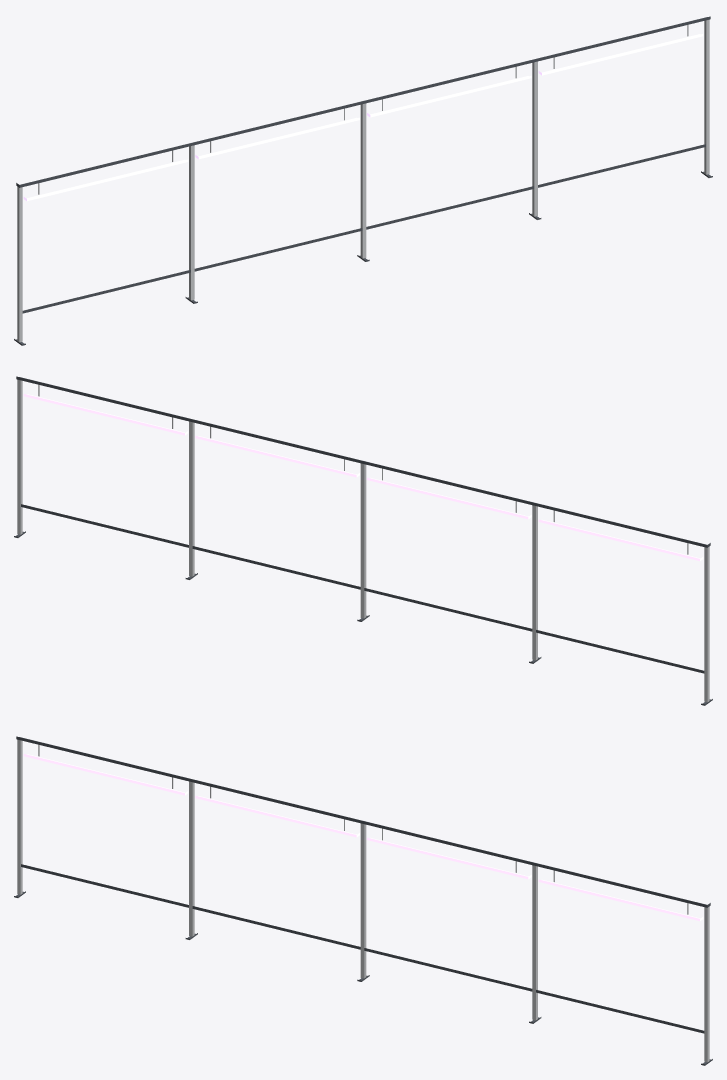
File: ext_grow_light_rack_03.glb
The picture shows the model from 3 angles, top to bottom: view 1: azimuth 30°, elevation 25°; view 2: azimuth 150°, elevation 25°; view 3: azimuth 330°, elevation 25°; orthographic projection.
Visible parts, largest first — view 1: Posts, Top_Beam, Light_Bars, Cross_Braces; view 2: Posts, Top_Beam, Light_Bars, Cross_Braces; view 3: Posts, Top_Beam, Light_Bars, Cross_Braces.
Boxes of the visible parts, x1,y1,x2,y2 form: Posts: [17, 19, 709, 342]; Top_Beam: [16, 16, 710, 187]; Light_Bars: [23, 34, 703, 201]; Cross_Braces: [22, 144, 705, 313]; Posts: [17, 379, 709, 702]; Top_Beam: [16, 376, 710, 547]; Light_Bars: [23, 394, 703, 561]; Cross_Braces: [21, 504, 704, 673]; Posts: [17, 739, 709, 1062]; Top_Beam: [16, 736, 710, 907]; Light_Bars: [23, 754, 703, 921]; Cross_Braces: [21, 864, 704, 1033].
Bounding box in the file's own units: 10 × 2.2 × 0.2.
